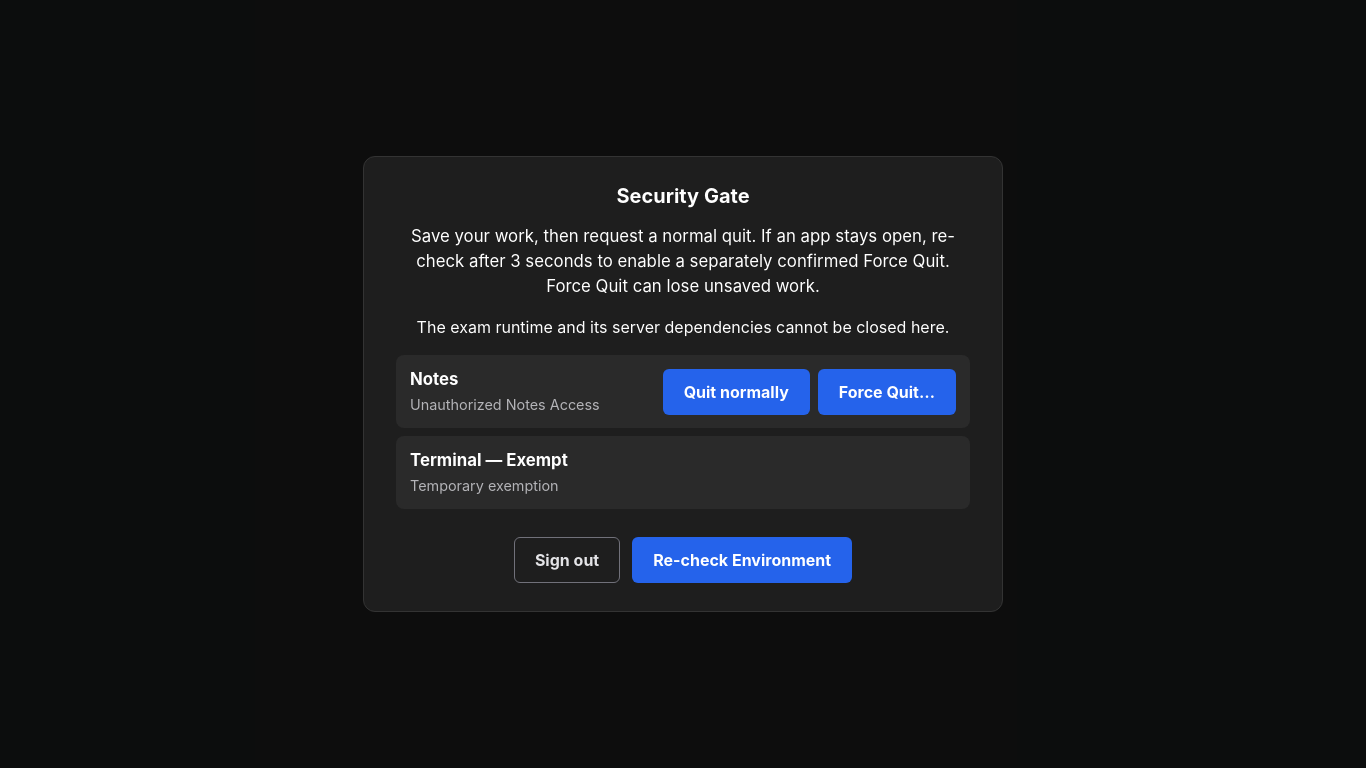
desktop preflight recovery › renders force quit only when the native controller grants eligibility
Click the button "Force Quit…" at point(887, 392), box [818,369,956,415]
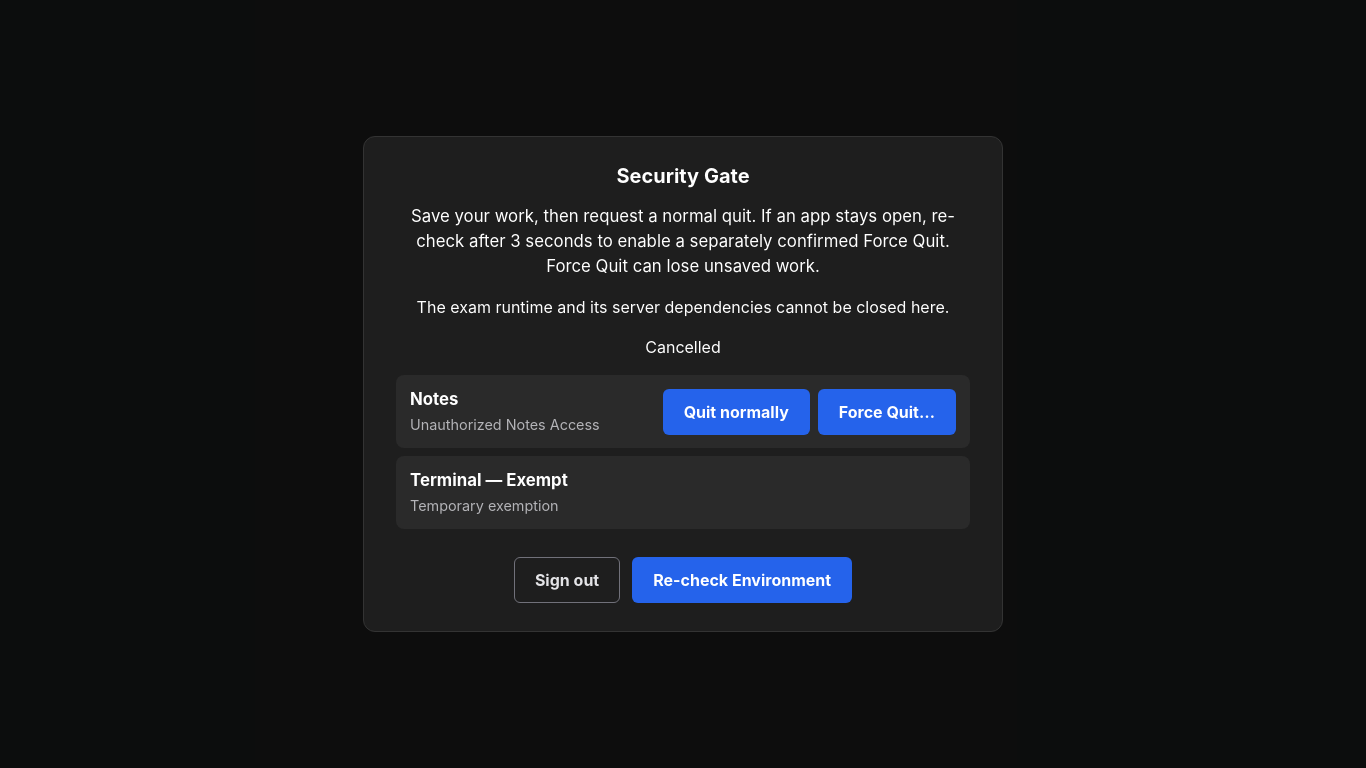
Now the text "Cancelled" is shown, box [645,337,721,357]
